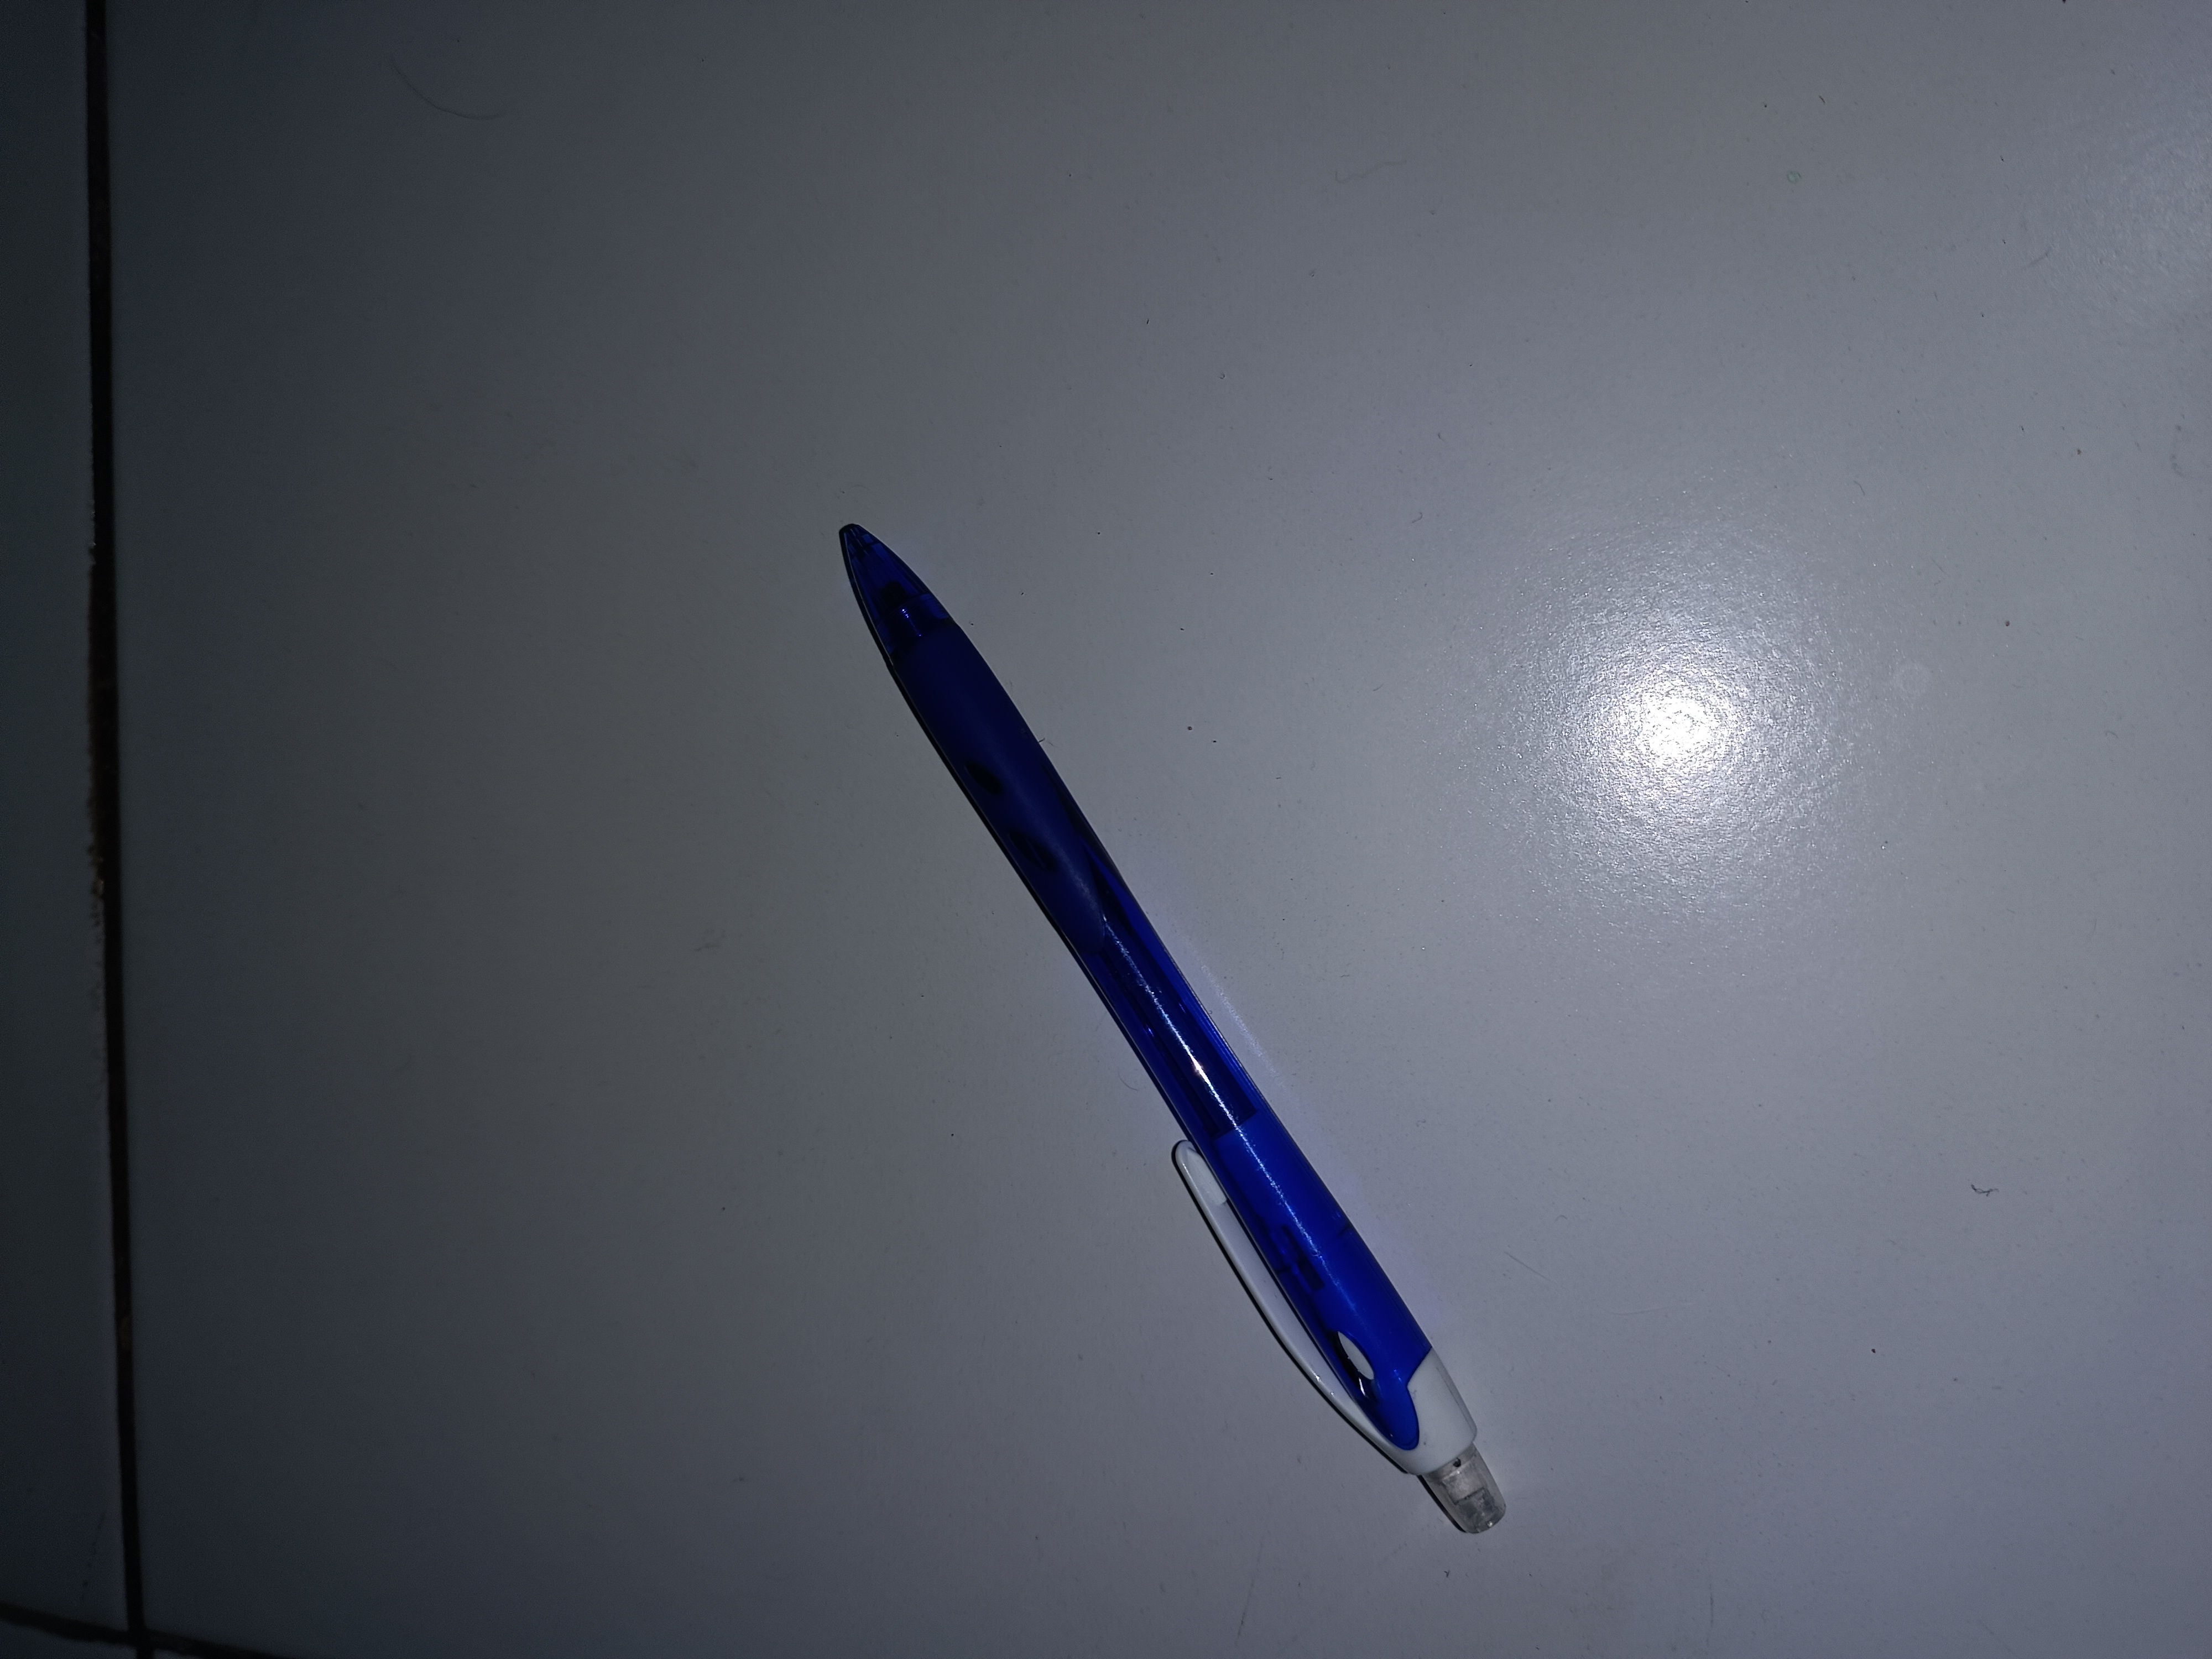Pen: (747, 484, 1604, 1541)
